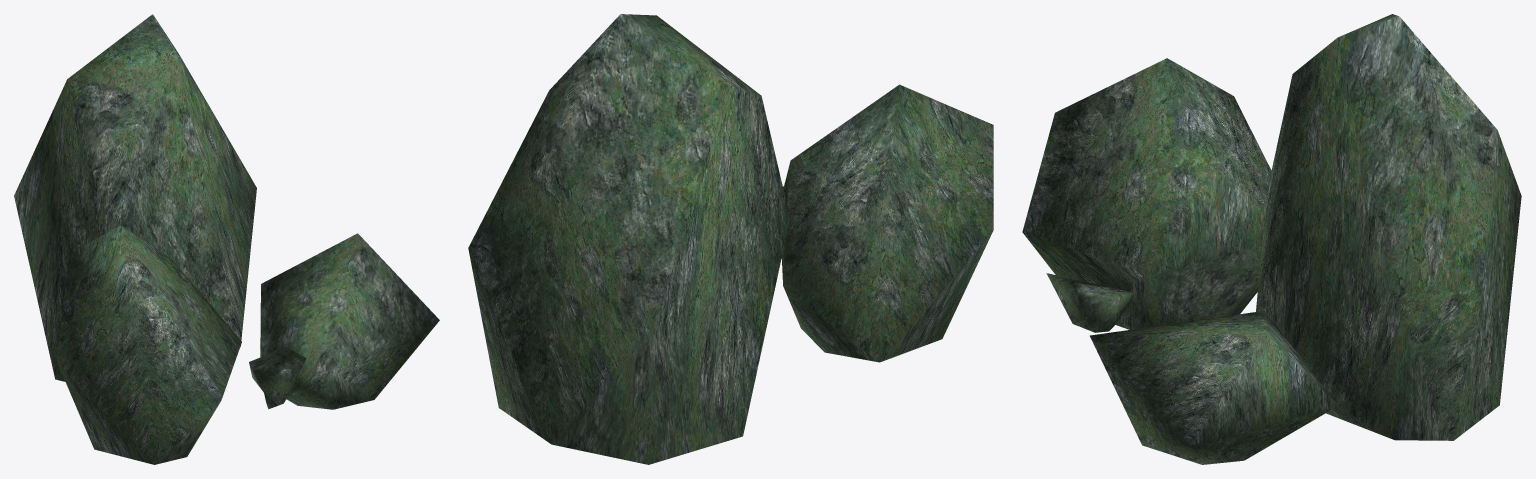
File: rock_mossy_bluebig_l1.fbx
3 views of the same model, side by side, from view 1: azimuth 30°, elevation 25°; view 2: azimuth 150°, elevation 25°; view 3: azimuth 270°, elevation 25° (orthographic). The views are drawn at different scales.
Parts seen in each view (by area): view 1: mesh_node; view 2: mesh_node; view 3: mesh_node.
Part boxes in pixels (bbox=[...]): mesh_node: bbox=[14, 14, 439, 464]; mesh_node: bbox=[468, 14, 993, 464]; mesh_node: bbox=[1022, 14, 1521, 464].
Bounding box in the file's own units: 10.53 × 8.55 × 10.07.
1 material, 1 textured.
